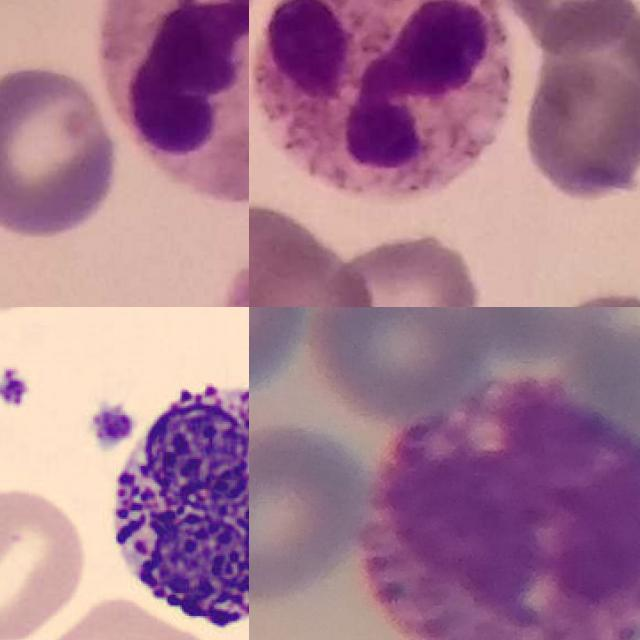Basophil: (359, 375, 640, 640), (94, 365, 249, 640)
Neutrophil: (255, 0, 510, 208), (100, 0, 249, 197)
Platelets: (86, 399, 137, 452), (0, 363, 34, 411)
RBC: (0, 484, 91, 640), (37, 589, 233, 640)
